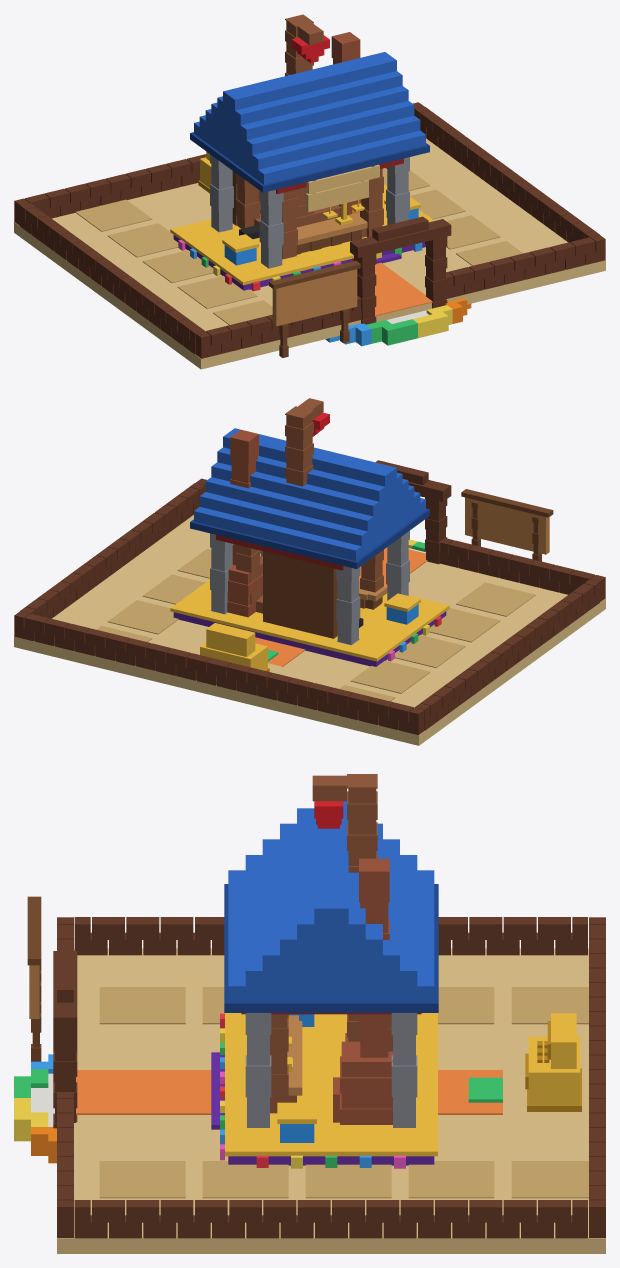
Rendered from Lobby.fbx.
3 renders of one model, top to bottom at view 1: azimuth 30°, elevation 25°; view 2: azimuth 150°, elevation 25°; view 3: azimuth 270°, elevation 25°, orthographic. The views are drawn at different scales.
Visible parts, largest first — view 1: Parcela_Exhibicion_Borde.003, Parcela_Exhibicion_Terreno, Tienda_Forja_Techo.001, Lugares, Tienda_Forja_Piedra, Ruleta_Mascotas_EscenarioBorde, Parcela_Exhibicion_Cartel.002, Puesto_Vender_Ladrillo, Ruleta_Mascotas_Ladrillo.002, Tienda_Forja_TechoBorde.001, Parcela_Exhibicion_Camino, Parcela_Exhibicion_Madera.002 (+13 smaller); view 2: Parcela_Exhibicion_Borde.003, Parcela_Exhibicion_Terreno, Tienda_Forja_Techo.001, Lugares, Ruleta_Mascotas_EscenarioBorde, Tienda_Forja_Madera.001, Tienda_Forja_Piedra, Parcela_Exhibicion_Cartel.002, Tienda_Forja_Ladrillo.001, Ruleta_Mascotas_Ladrillo.002, Parcela_Exhibicion_Caja, Tienda_Forja_TechoBorde.001 (+5 smaller); view 3: Parcela_Exhibicion_Terreno, Parcela_Exhibicion_Borde.003, Tienda_Forja_Techo.001, Lugares, Ruleta_Mascotas_EscenarioBorde, Parcela_Exhibicion_Camino, Tienda_Forja_Ladrillo.001, Tienda_Forja_Piedra, Ruleta_Mascotas_Ladrillo.002, Parcela_Exhibicion_Caja, Tienda_Forja_TechoBorde.001, Ruleta_Mascotas_Escenario (+12 smaller).
Part boxes in pixels (x1=…): Parcela_Exhibicion_Borde.003: x1=14, y1=102, x2=605, y2=358; Parcela_Exhibicion_Terreno: x1=14, y1=138, x2=605, y2=369; Tienda_Forja_Techo.001: x1=194, y1=52, x2=425, y2=184; Lugares: x1=75, y1=168, x2=523, y2=324; Tienda_Forja_Piedra: x1=210, y1=154, x2=409, y2=268; Ruleta_Mascotas_EscenarioBorde: x1=170, y1=184, x2=433, y2=285; Parcela_Exhibicion_Cartel.002: x1=272, y1=269, x2=357, y2=326; Puesto_Vender_Ladrillo: x1=236, y1=168, x2=383, y2=259; Ruleta_Mascotas_Ladrillo.002: x1=254, y1=14, x2=340, y2=227; Tienda_Forja_TechoBorde.001: x1=190, y1=132, x2=429, y2=192; Parcela_Exhibicion_Camino: x1=375, y1=262, x2=432, y2=316; Parcela_Exhibicion_Madera.002: x1=269, y1=260, x2=360, y2=357; Parcela_Exhibicion_Borde.003: x1=14, y1=460, x2=605, y2=734; Parcela_Exhibicion_Terreno: x1=14, y1=514, x2=605, y2=745; Tienda_Forja_Techo.001: x1=194, y1=428, x2=425, y2=560; Lugares: x1=96, y1=548, x2=535, y2=701; Ruleta_Mascotas_EscenarioBorde: x1=170, y1=579, x2=449, y2=661; Tienda_Forja_Madera.001: x1=263, y1=551, x2=381, y2=638; Tienda_Forja_Piedra: x1=210, y1=530, x2=409, y2=645; Parcela_Exhibicion_Cartel.002: x1=465, y1=497, x2=549, y2=554; Tienda_Forja_Ladrillo.001: x1=227, y1=429, x2=262, y2=617; Ruleta_Mascotas_Ladrillo.002: x1=256, y1=398, x2=323, y2=613; Parcela_Exhibicion_Caja: x1=200, y1=623, x2=267, y2=670; Tienda_Forja_TechoBorde.001: x1=190, y1=508, x2=429, y2=568; Parcela_Exhibicion_Terreno: x1=57, y1=948, x2=605, y2=1253; Parcela_Exhibicion_Borde.003: x1=53, y1=917, x2=605, y2=1238; Tienda_Forja_Techo.001: x1=228, y1=801, x2=434, y2=1001; Lugares: x1=99, y1=987, x2=588, y2=1198; Ruleta_Mascotas_EscenarioBorde: x1=225, y1=1013, x2=437, y2=1156; Parcela_Exhibicion_Camino: x1=76, y1=1070, x2=502, y2=1114; Tienda_Forja_Ladrillo.001: x1=333, y1=858, x2=392, y2=1124; Tienda_Forja_Piedra: x1=245, y1=1013, x2=417, y2=1127; Ruleta_Mascotas_Ladrillo.002: x1=312, y1=774, x2=377, y2=1041; Parcela_Exhibicion_Caja: x1=528, y1=1013, x2=580, y2=1105; Tienda_Forja_TechoBorde.001: x1=224, y1=884, x2=438, y2=1012; Ruleta_Mascotas_Escenario: x1=211, y1=1052, x2=434, y2=1165.
Size of the model in its own units: 11.2 by 6.27 by 9.66.
